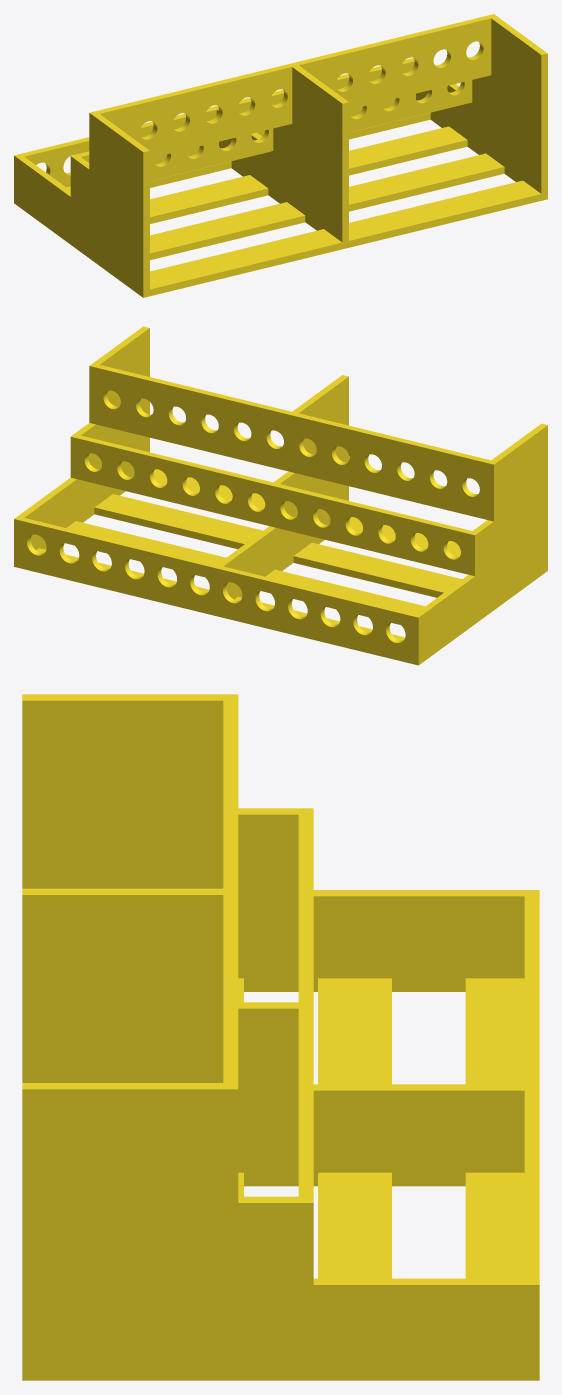
File: openscad_tool-shelf-for-bench.glb
3 views of the same model, one above another, from view 1: azimuth 30°, elevation 25°; view 2: azimuth 150°, elevation 25°; view 3: azimuth 270°, elevation 25° (orthographic). The views are drawn at different scales.
Visible parts, largest first — view 1: object; view 2: object; view 3: object.
Part boxes in pixels (x1,y1,x2,y2): object: (14, 14, 547, 297); object: (14, 326, 547, 665); object: (22, 694, 539, 1380).
Size of the model in its own units: 186 by 64 by 103.
